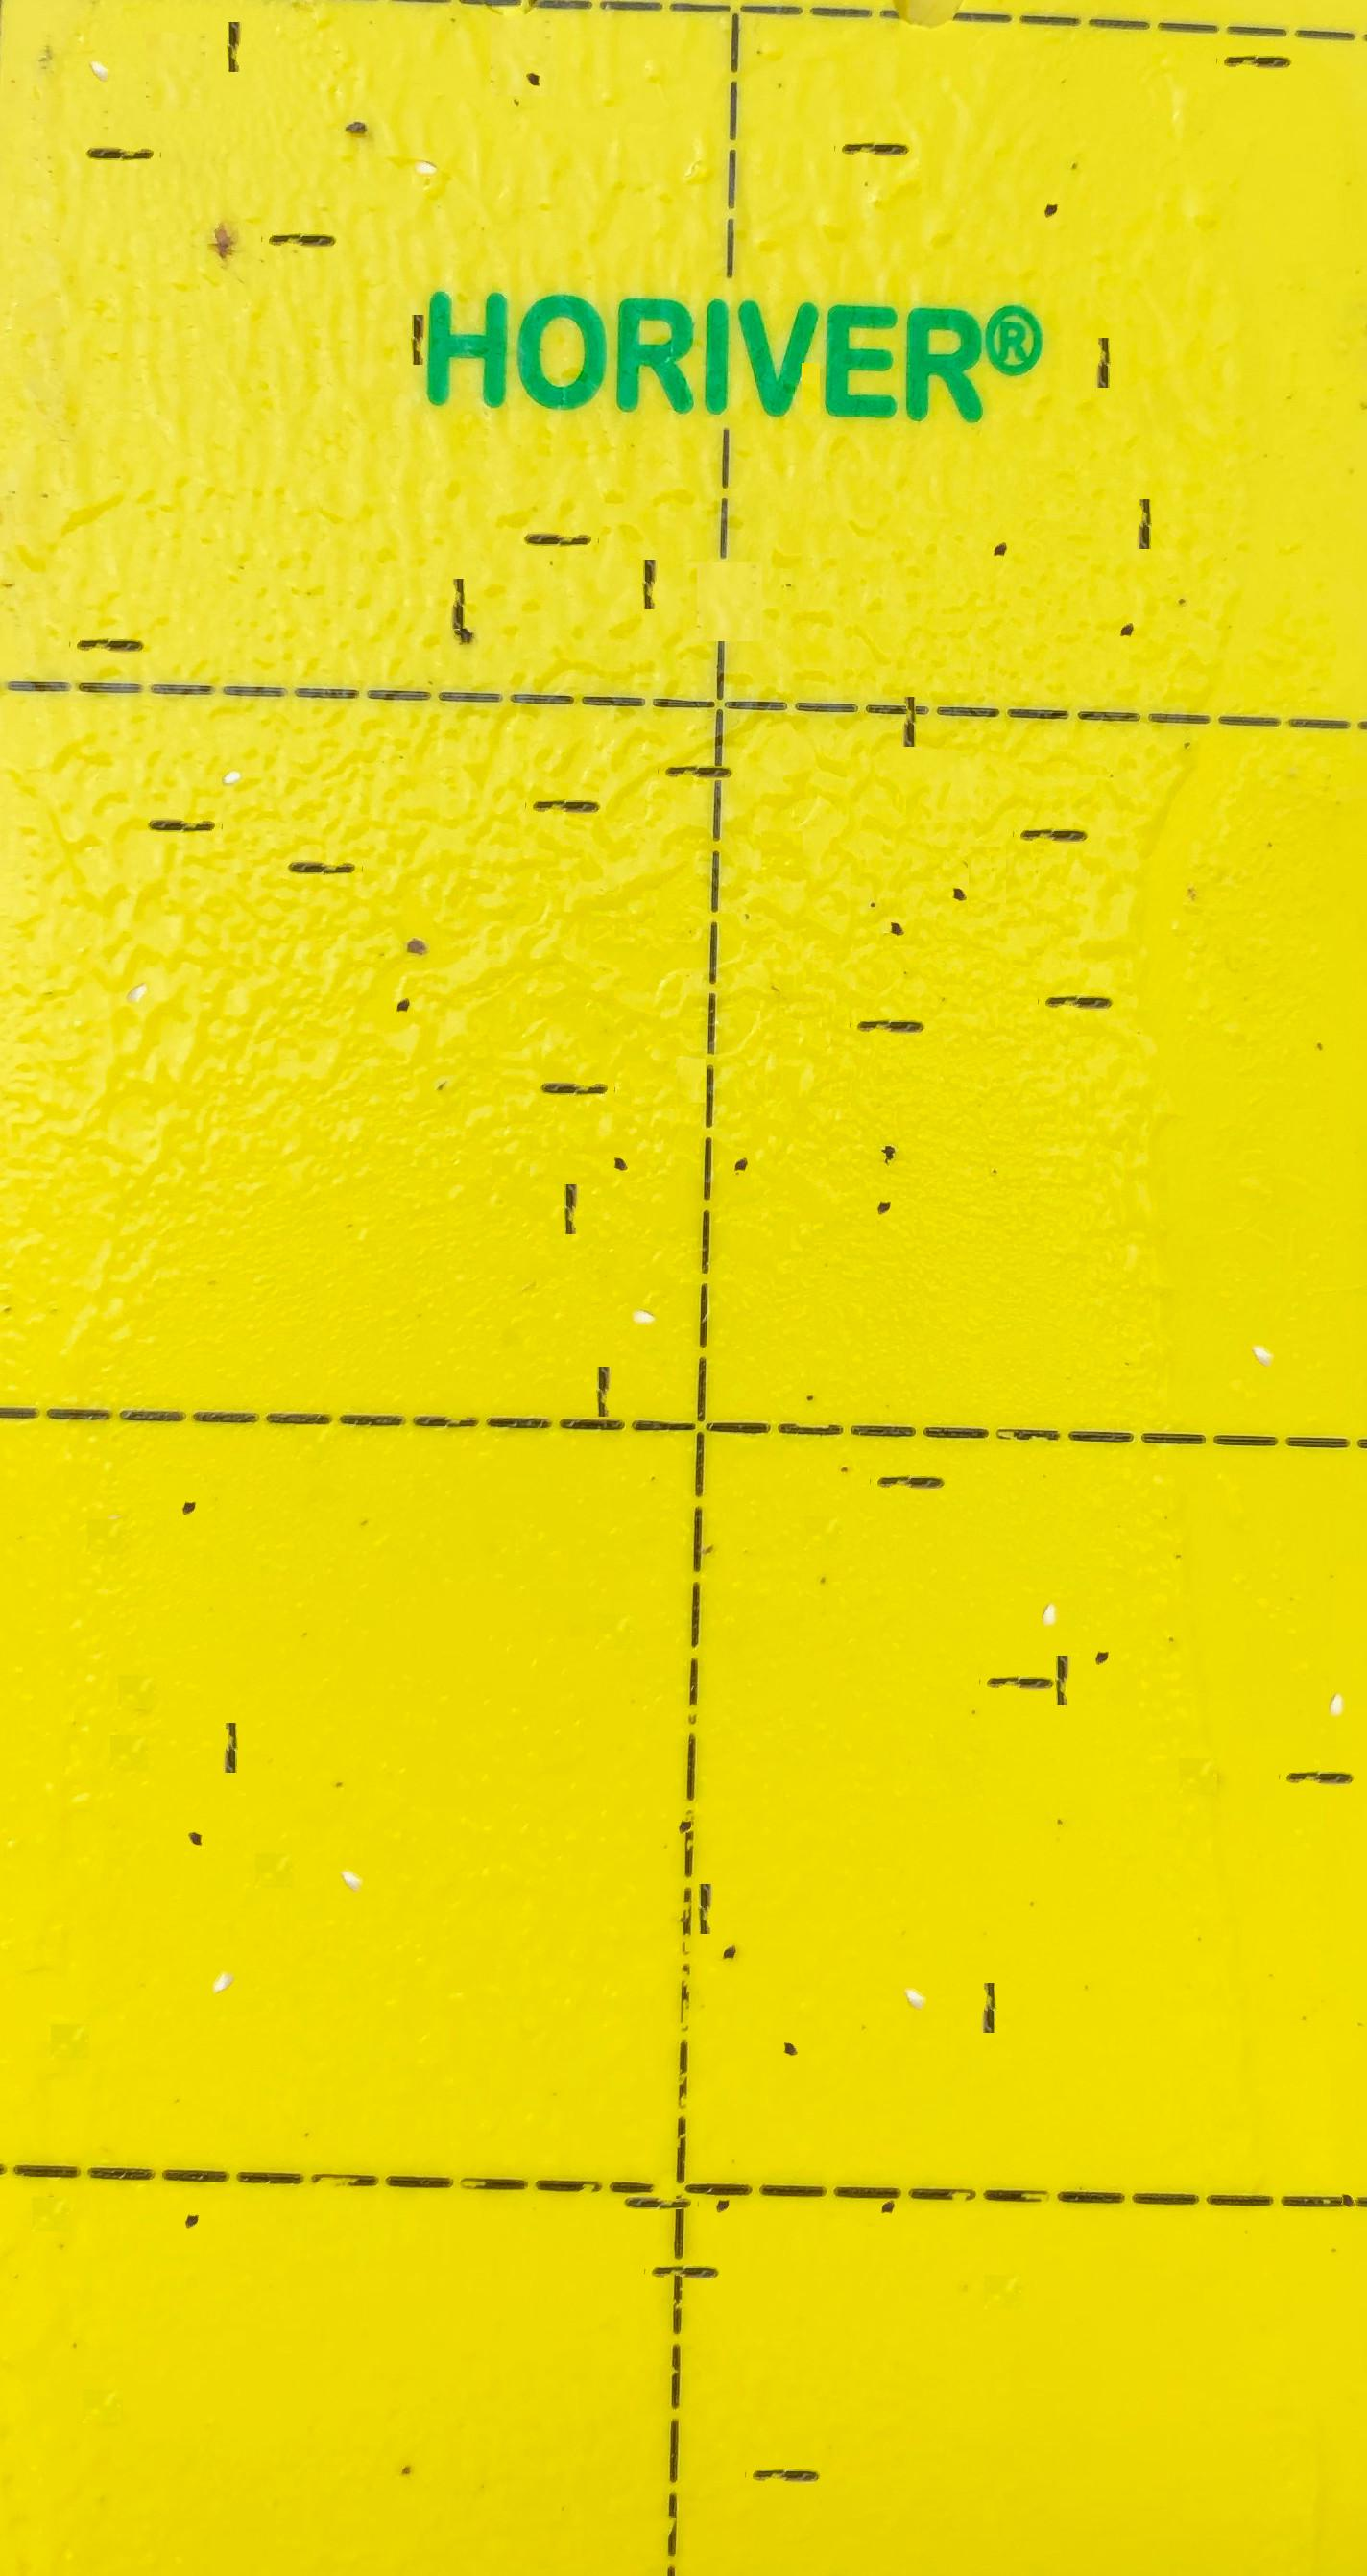white_fly: (211, 707, 254, 755), (331, 1816, 373, 1860), (1243, 1291, 1285, 1336), (203, 1917, 245, 1959), (80, 7, 123, 49), (116, 930, 159, 973), (895, 1935, 937, 1978), (404, 111, 445, 148), (622, 1259, 663, 1297), (1028, 1559, 1069, 1596), (1314, 1649, 1355, 1687)
